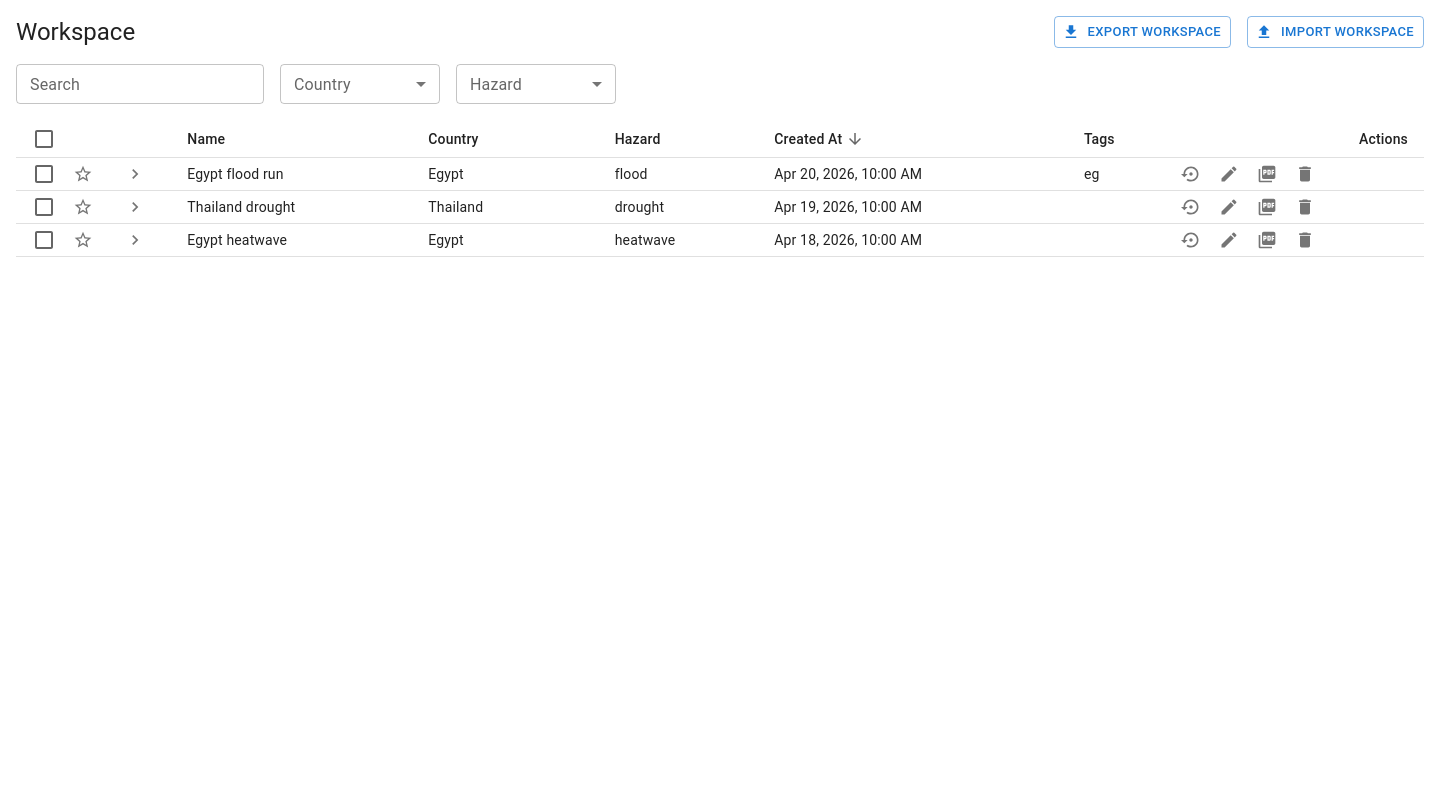
Test: WorkspaceView › opens the export-pdf dialog instead of firing IPC immediately
Click the button named "export-pdf-s-1" at (1267, 174), box [1252,159,1282,189]
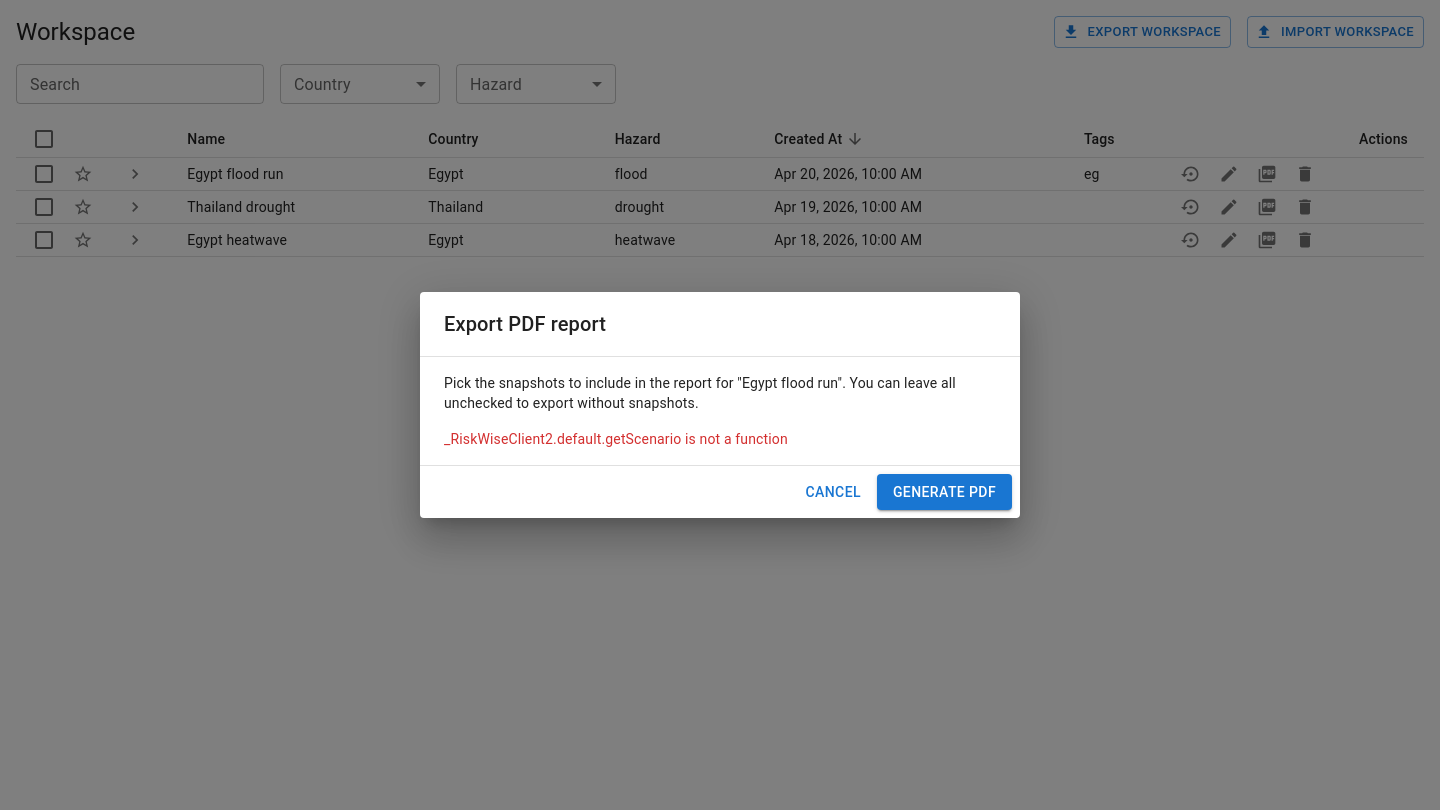
Now the dialog is shown, box [420,292,1020,518]
